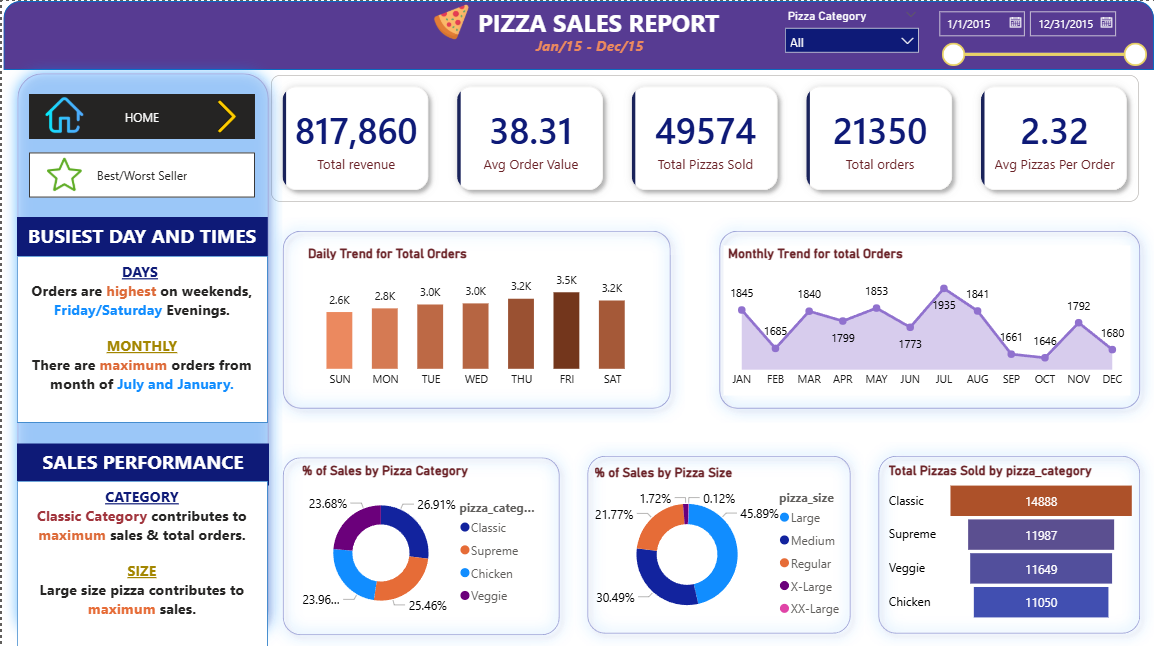

The dashboard page shown, as its layout file describes it:
{"tool":"powerbi","page":{"name":"HOME","canvas":[1280,720],"ordinal":0},"visuals":[{"type":"cardVisual","fields":{"Data":["pizza_sales.Total revenue","pizza_sales.Avg Order Value","pizza_sales.Total Pizzas Sold","pizza_sales.Total orders","pizza_sales.Avg Pizzas Per Order"]},"box":[281.7,65,998.3,175],"z":0},{"type":"shape","box":[1.7,0,1278.3,76.7],"z":1000},{"type":"textbox","box":[1.7,0,1278.3,46.7],"z":2000},{"type":"textbox","box":[0,33.3,1280,31.7],"z":3000},{"type":"image","box":[470,3.3,58.3,40],"z":4000},{"type":"shape","box":[781.7,240,498.3,228.3],"z":5000},{"type":"shape","box":[296.7,491.7,338.3,228.3],"z":6000},{"type":"shape","box":[296.7,240,461.7,228.3],"z":7000},{"type":"columnChart","title":"Daily Trend for Total Orders","fields":{"Category":["pizza_sales.Order day"],"Y":["pizza_sales.Total orders"]},"box":[335,271.7,383.3,166.7],"z":8000},{"type":"shape","box":[1.7,65,310,655],"z":9000},{"type":"areaChart","title":"Monthly Trend for total Orders","fields":{"Category":["pizza_sales.Order Month"],"Y":["pizza_sales.Total orders"]},"box":[801.7,271.7,451.7,166.7],"z":10000},{"type":"shape","box":[635,490,323.3,228.3],"z":11000},{"type":"shape","box":[958.3,490,321.7,228.3],"z":12000},{"type":"donutChart","title":"% of Sales by Pizza Category","fields":{"Category":["pizza_sales.pizza_category"],"Y":["pizza_sales.Total revenue"]},"box":[328.3,513.3,276.7,183.3],"z":13000},{"type":"donutChart","title":"% of Sales by Pizza Size","fields":{"Category":["pizza_sales.pizza_size"],"Y":["pizza_sales.Total revenue"]},"box":[653.3,515,295,183.3],"z":14000},{"type":"funnel","fields":{"Y":["pizza_sales.Total Pizzas Sold"],"Category":["pizza_sales.pizza_category"]},"box":[980,513.3,285,180],"z":15000},{"type":"textbox","box":[16.7,240,278.3,43.3],"z":16000},{"type":"textbox","box":[16.7,283.3,278.3,185],"z":17000},{"type":"textbox","box":[16.7,491.7,280,46.7],"z":18000},{"type":"textbox","box":[16.7,533.3,278.3,185],"z":19000},{"type":"slicer","fields":{"Values":["pizza_sales.order_date"]},"box":[1028.3,1.7,251.7,75],"z":20000},{"type":"slicer","fields":{"Values":["pizza_sales.pizza_category"]},"box":[860,3.3,168.3,73.3],"z":21000},{"type":"pageNavigator","box":[30,103.3,251.7,50],"z":22000},{"type":"pageNavigator","box":[30,168.3,251.7,50],"z":23000},{"type":"image","box":[231.7,103.3,36.7,50],"z":24000},{"type":"image","box":[48.3,100,41.7,53.3],"z":25000},{"type":"image","box":[33.3,173.3,71.7,38.3],"z":26000}]}

Visuals, with their boxes in screenshot pixels (x1, y1, x2, y2), scaled from the page's 1280x720 canvas onto the 1154x646 screenshot:
cardVisual - pizza_sales.Total revenue x pizza_sales.Avg Order Value: [x1=254, y1=58, x2=1153, y2=215]
shape: [x1=2, y1=0, x2=1153, y2=69]
textbox: [x1=2, y1=0, x2=1153, y2=42]
textbox: [x1=0, y1=30, x2=1153, y2=58]
image: [x1=424, y1=3, x2=476, y2=39]
shape: [x1=705, y1=215, x2=1153, y2=420]
shape: [x1=267, y1=441, x2=572, y2=645]
shape: [x1=267, y1=215, x2=684, y2=420]
"Daily Trend for Total Orders" columnChart: [x1=302, y1=244, x2=648, y2=393]
shape: [x1=2, y1=58, x2=281, y2=645]
"Monthly Trend for total Orders" areaChart: [x1=723, y1=244, x2=1130, y2=393]
shape: [x1=572, y1=440, x2=864, y2=644]
shape: [x1=864, y1=440, x2=1153, y2=644]
"% of Sales by Pizza Category" donutChart: [x1=296, y1=461, x2=545, y2=625]
"% of Sales by Pizza Size" donutChart: [x1=589, y1=462, x2=855, y2=627]
funnel - pizza_sales.Total Pizzas Sold x pizza_sales.pizza_category: [x1=884, y1=461, x2=1140, y2=622]
textbox: [x1=15, y1=215, x2=266, y2=254]
textbox: [x1=15, y1=254, x2=266, y2=420]
textbox: [x1=15, y1=441, x2=267, y2=483]
textbox: [x1=15, y1=478, x2=266, y2=644]
slicer - pizza_sales.order_date: [x1=927, y1=2, x2=1153, y2=69]
slicer - pizza_sales.pizza_category: [x1=775, y1=3, x2=927, y2=69]
pageNavigator: [x1=27, y1=93, x2=254, y2=138]
pageNavigator: [x1=27, y1=151, x2=254, y2=196]
image: [x1=209, y1=93, x2=242, y2=138]
image: [x1=44, y1=90, x2=81, y2=138]
image: [x1=30, y1=155, x2=95, y2=190]
